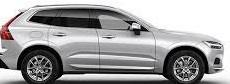SUV: (1, 6, 225, 84)
